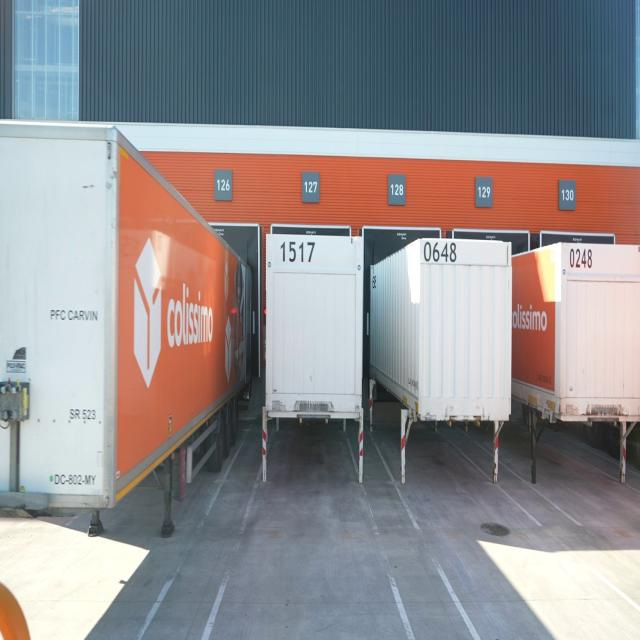Code: (278, 235, 318, 268), (422, 236, 459, 265), (563, 242, 596, 272)
